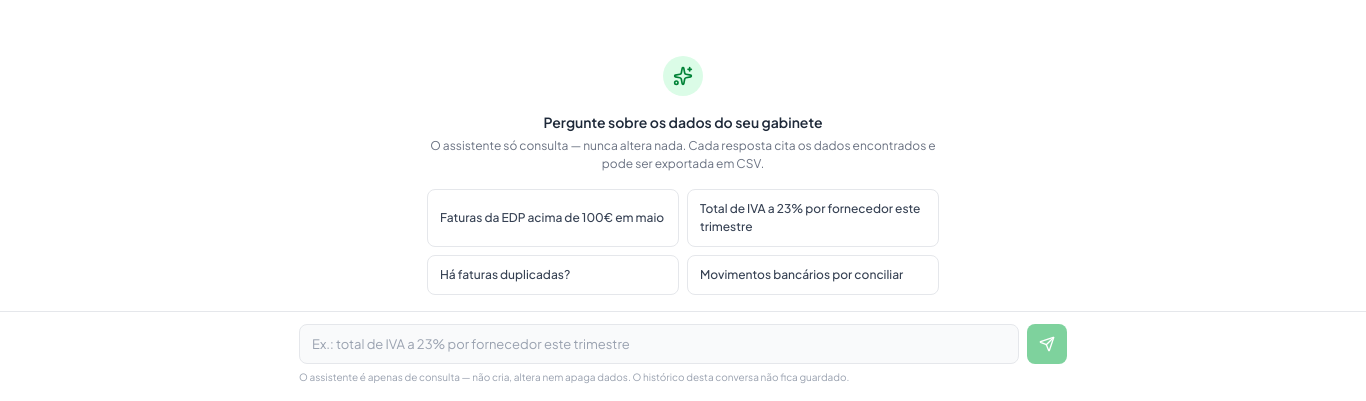
AssistantChat › estado vazio mostra as 4 perguntas sugeridas; clicar numa envia-a
This screenshot has width=1366, height=401.
Expected: the button "Total de IVA a 23% por fornecedor este trimestre" is shown, [687,189,939,247]
Expected: the button "Há faturas duplicadas?" is shown, [427,255,679,295]
Click the button "Faturas da EDP acima de 100€ em maio": point(553, 218) [427,189,679,247]
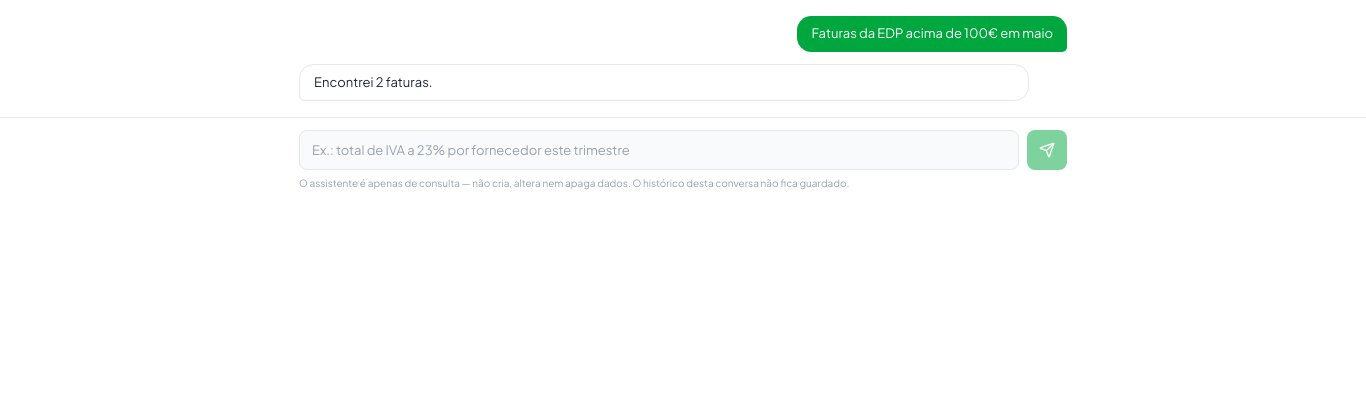
Expected: the text "Faturas da EDP acima de 100€ em maio" is shown, [811,24,1053,44]
Expected: the text "Encontrei 2 faturas." is shown, [314,74,432,90]
